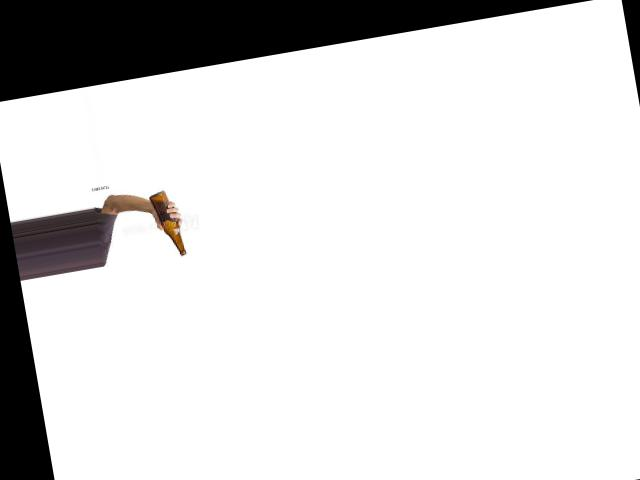beer: (148, 188, 187, 259)
